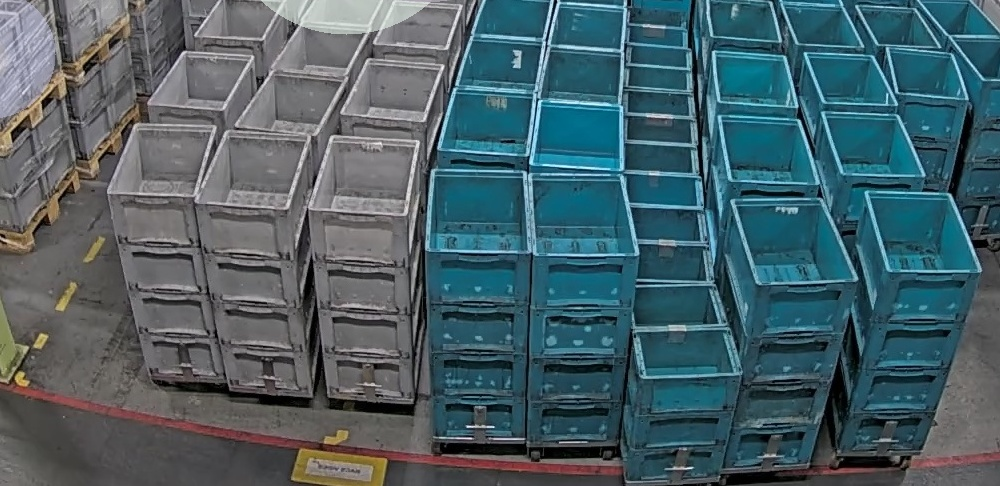4G: (195, 127, 323, 394), (105, 121, 229, 381), (306, 132, 425, 402)
B4: (829, 189, 983, 453), (714, 197, 860, 469), (526, 172, 642, 444), (424, 167, 535, 441), (883, 44, 972, 193)
B8: (621, 282, 744, 483)
